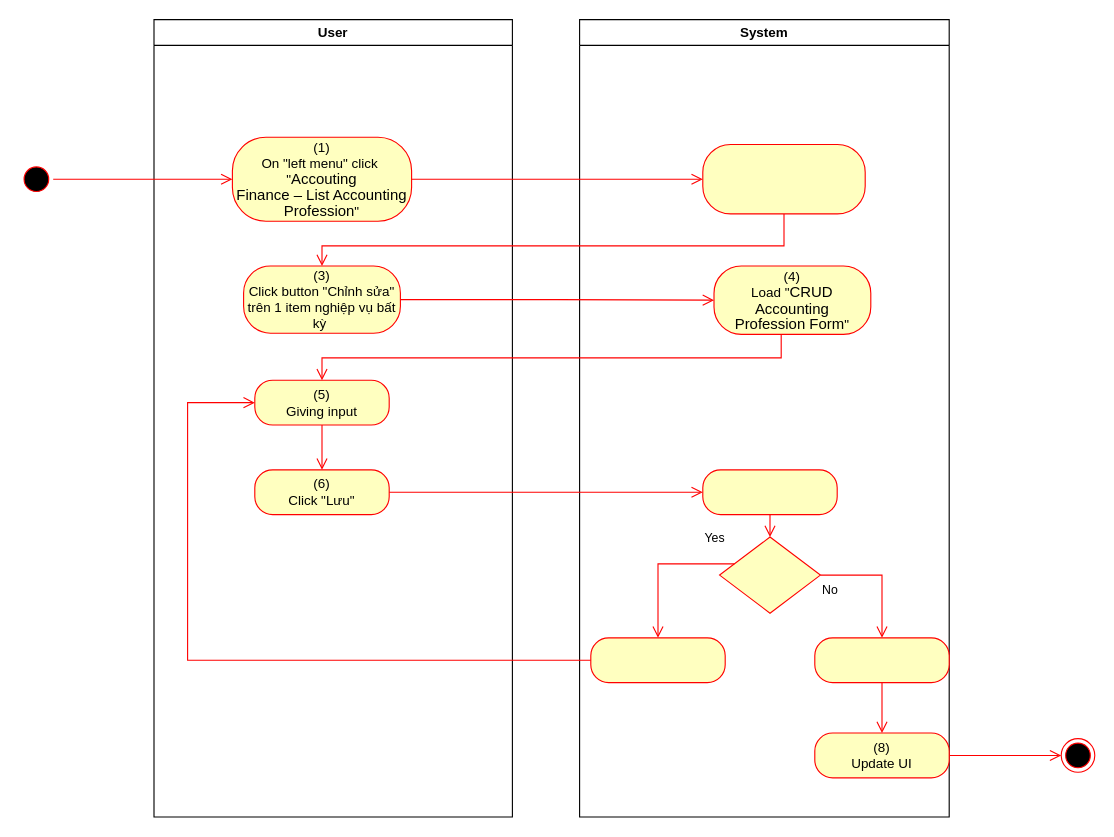
The diagram is 1114 pixels wide and 837 high, and some of its shapes have lost their labels. The shapes that lost their labels are listed below. From the top down, each one's centre as x and y in pixels, then its label:
[783,178]: (2) Load " List Accounting Profession " screen
[769,492]: (7) Validate
[657,660]: (7.1) Show MSG
[881,660]: (7.2) Push new Accounting profession to DB
